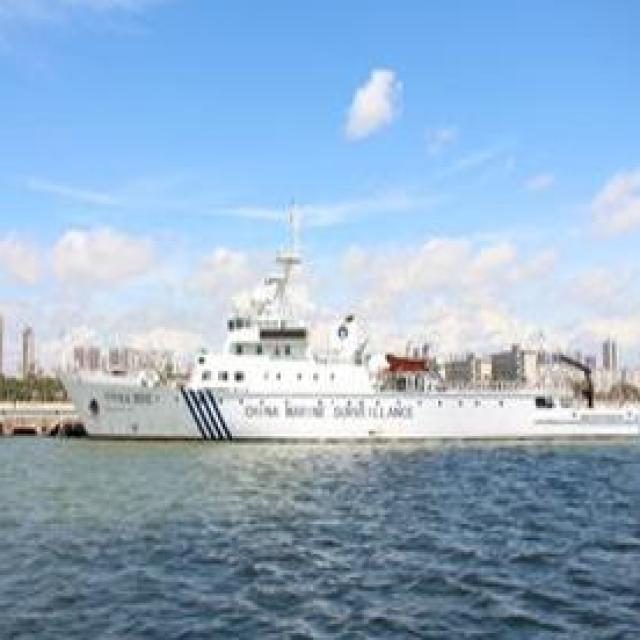navalvessels: (60, 235, 640, 482)
